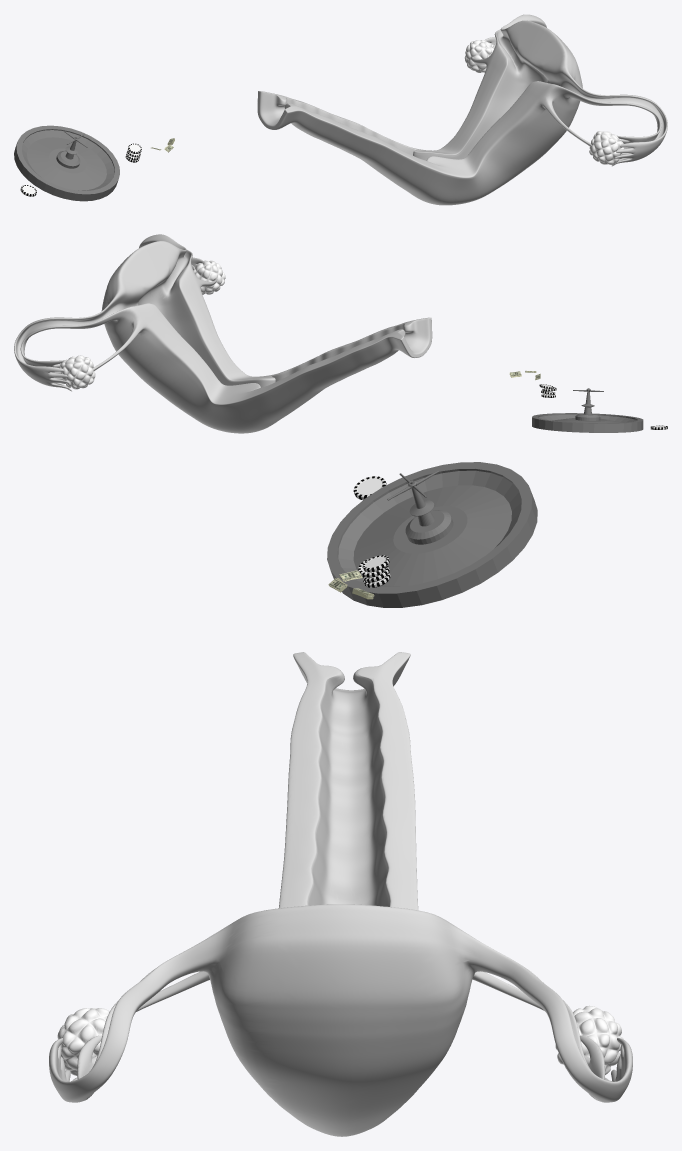
File: Level 1.fbx
3 renders of one model, top to bottom at view 1: azimuth 30°, elevation 25°; view 2: azimuth 150°, elevation 25°; view 3: azimuth 270°, elevation 25°, orthographic. The views are drawn at different scales.
Parts seen in each view (by area): view 1: Uterus_XSection_obj_cleaner, Cylinder_1; view 2: Uterus_XSection_obj_cleaner, Cylinder_1; view 3: Uterus_XSection_obj_cleaner, Cylinder_1.
Part boxes in pixels (x1,y1,x2,y2): Uterus_XSection_obj_cleaner: (257,14,667,205); Cylinder_1: (14,125,119,201); Uterus_XSection_obj_cleaner: (14,234,432,433); Cylinder_1: (532,388,643,432); Uterus_XSection_obj_cleaner: (49,652,632,1136); Cylinder_1: (327,462,537,607).
Bounding box in the file's own units: 30079 × 7483 × 13205.
14 materials, 1 textured.
